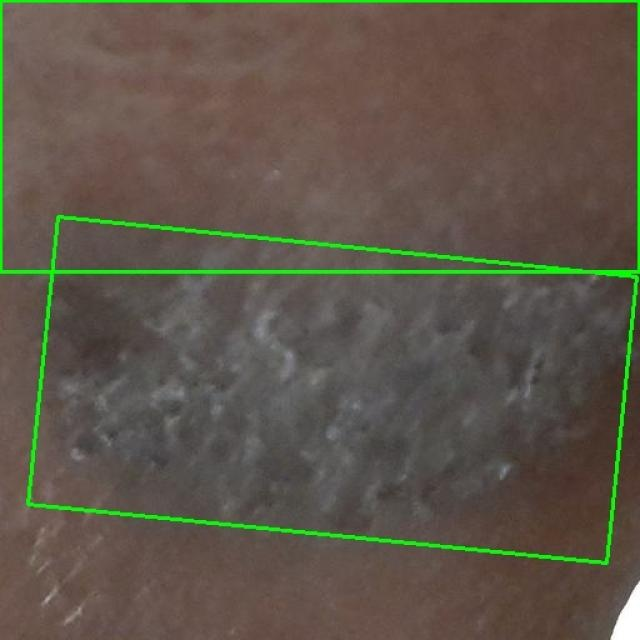Eczema: (29, 217, 637, 564), (0, 0, 639, 272)
